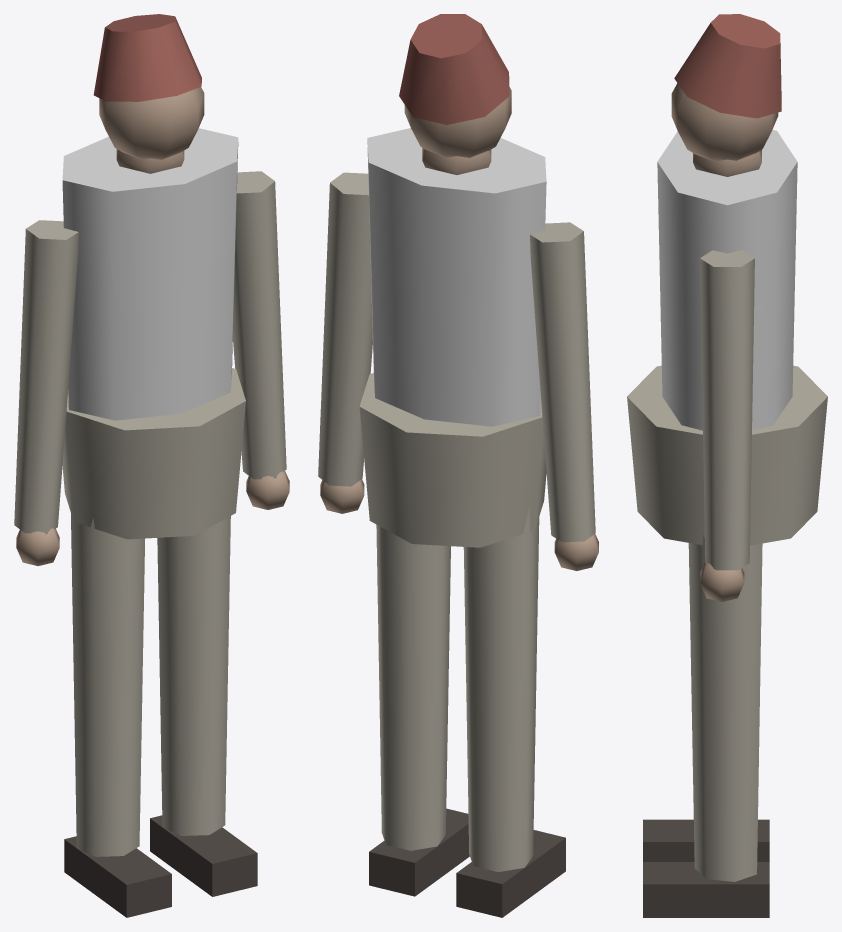
File: sailor.glb
3 views of the same model, side by side, from view 1: azimuth 30°, elevation 25°; view 2: azimuth 150°, elevation 25°; view 3: azimuth 270°, elevation 25° (orthographic).
Parts seen in each view (by area): view 1: jambes, corps, bras, tete; view 2: jambes, corps, bras, tete; view 3: jambes, corps, bras, tete.
Boxes of the visible parts, x1,y1,x2,y2 form: jambes: [62, 368, 257, 917]; corps: [62, 128, 238, 420]; bras: [14, 171, 289, 565]; tete: [93, 14, 204, 173]; jambes: [359, 373, 565, 917]; corps: [367, 128, 546, 426]; bras: [318, 172, 598, 570]; tete: [399, 14, 511, 174]; jambes: [627, 365, 827, 917]; corps: [657, 129, 797, 430]; bras: [700, 250, 754, 601]; tete: [671, 14, 781, 176].
Bounding box in the file's own units: 0.606 × 1.8 × 0.38.
